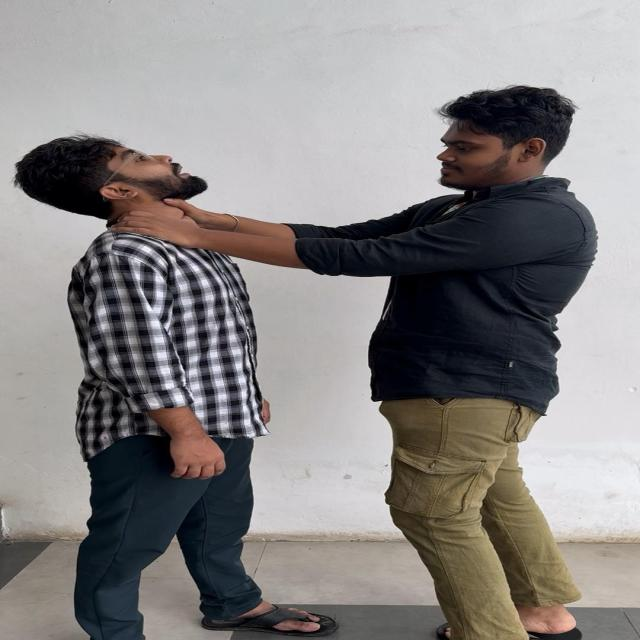fight: (13, 74, 596, 640)
